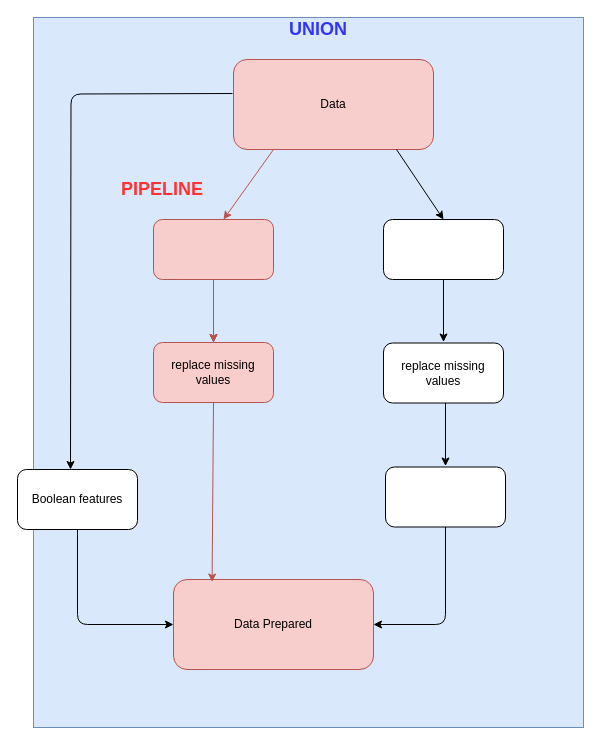
Image size: 601x745. Some labels were removed from this diagram. The box of each missing label's shape, as (x1, y1, x2, y2) in pixels:
Categorical features: (382, 218, 504, 280)
get numerical features: (384, 466, 506, 527)
Numerical features: (152, 218, 274, 280)
